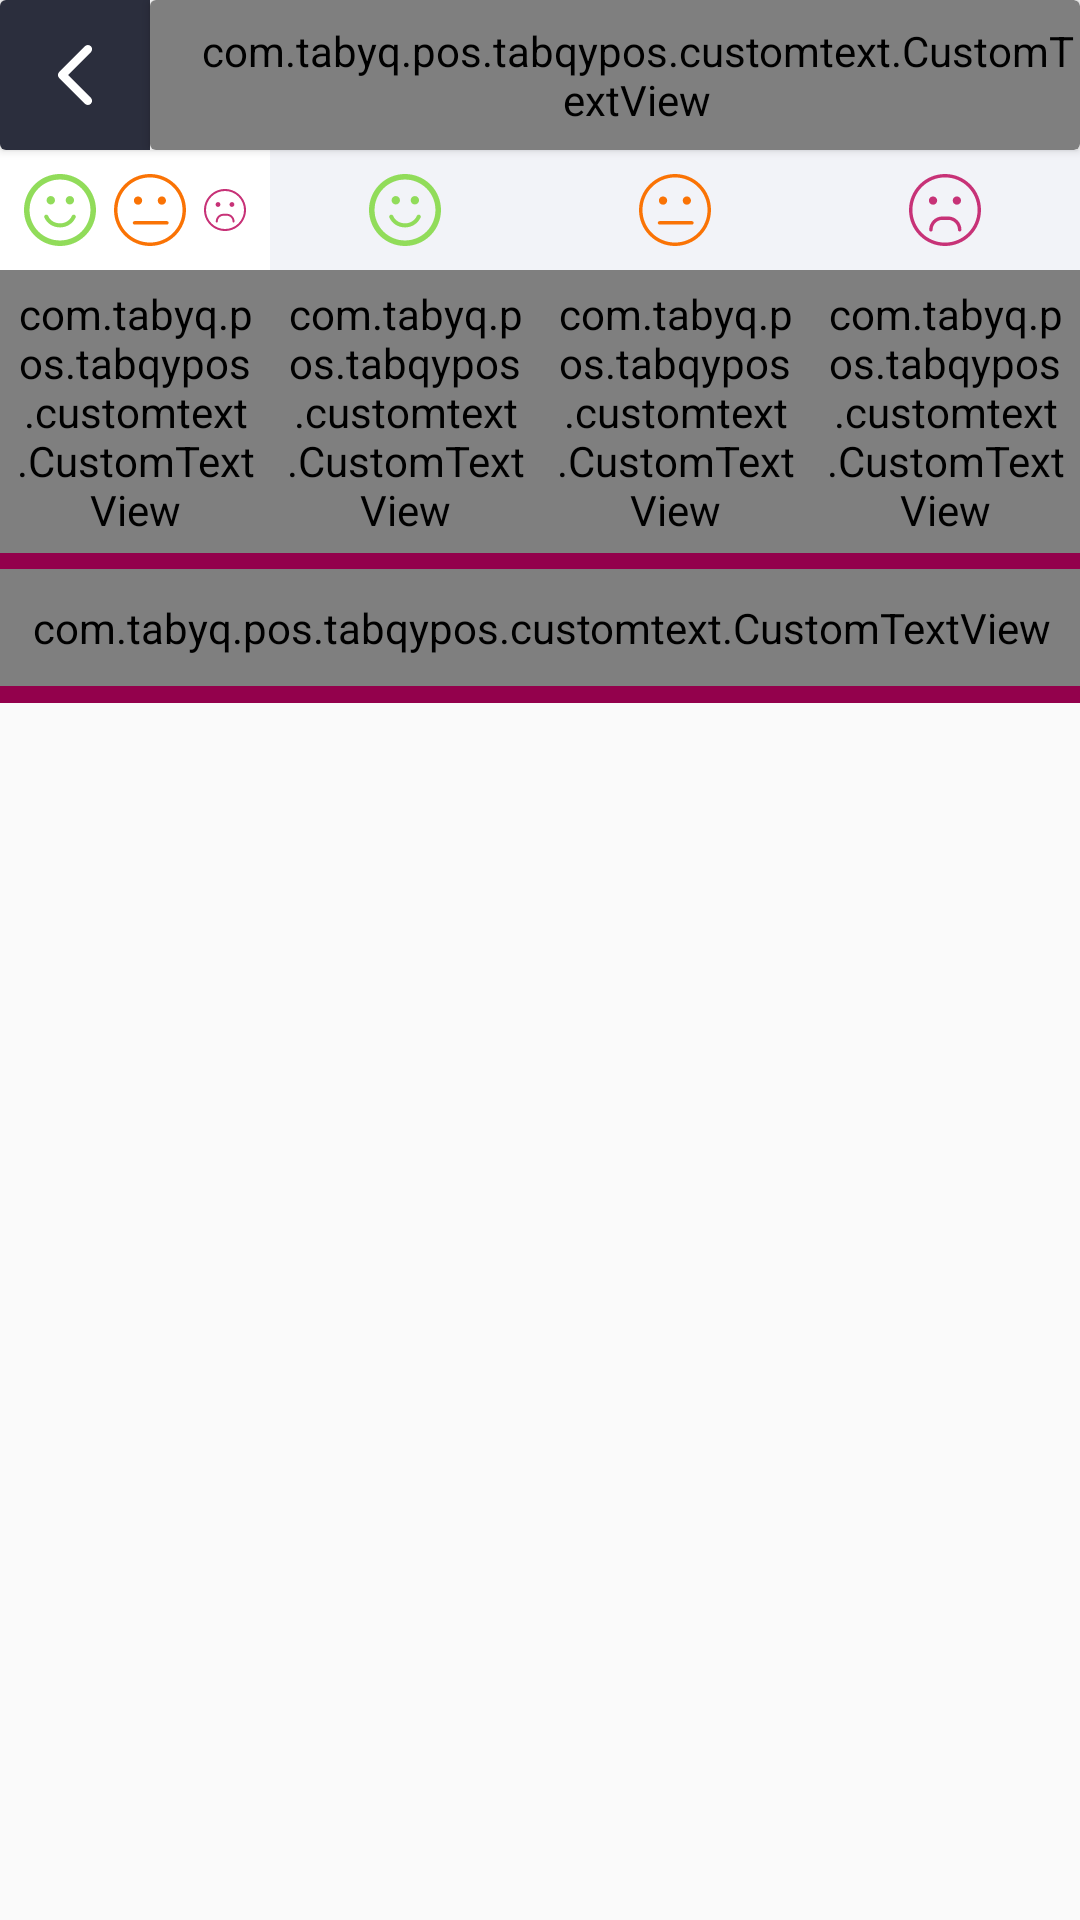

Where icons sit on this 1080w x 1920h app screen, as Rect(x1, y1, x2, y2):
arrow left: Rect(58, 45, 92, 105)
sad: Rect(909, 174, 981, 246), Rect(204, 189, 246, 231)
smiling: Rect(24, 174, 96, 246), Rect(369, 174, 441, 246)
